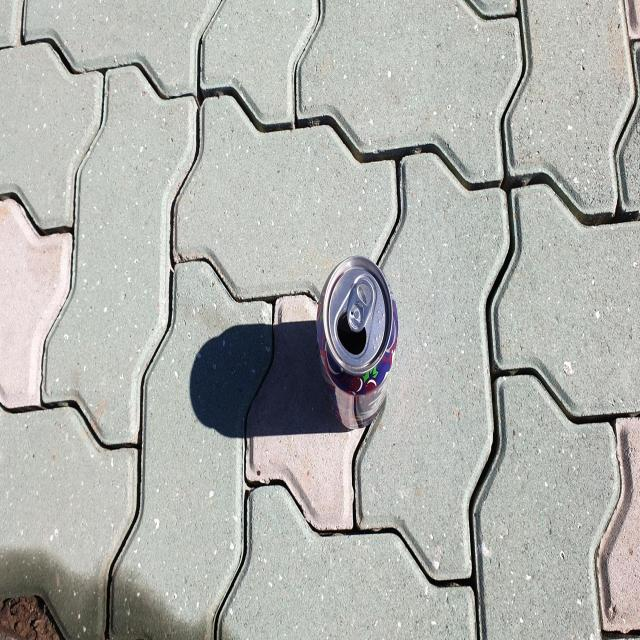can: (317, 255, 399, 428)
